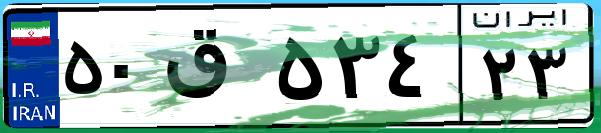0: (110, 28, 158, 98)
2: (475, 38, 525, 113)
3: (330, 28, 385, 110), (525, 38, 570, 115)
4: (385, 28, 445, 110)
5: (270, 28, 330, 110), (57, 26, 110, 100)
ق: (158, 20, 270, 120)
